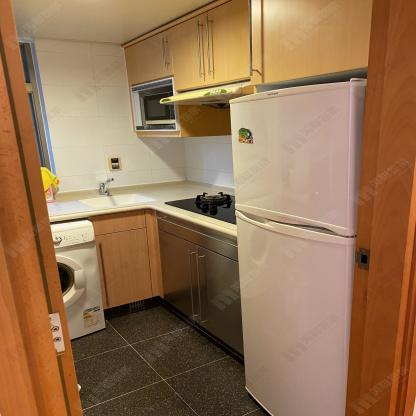Cupboard: (124, 0, 372, 93), (91, 210, 247, 356), (121, 0, 250, 91)
Exhaust Hood: (159, 80, 254, 110), (161, 81, 255, 110)
Faucet: (98, 176, 114, 195)
Fridge: (229, 78, 367, 416), (230, 78, 359, 414)
Microwave: (130, 76, 181, 136)
Sink: (67, 192, 163, 213)
Stove: (163, 189, 240, 230), (157, 190, 233, 229)
Washing Machine: (50, 219, 106, 341)
